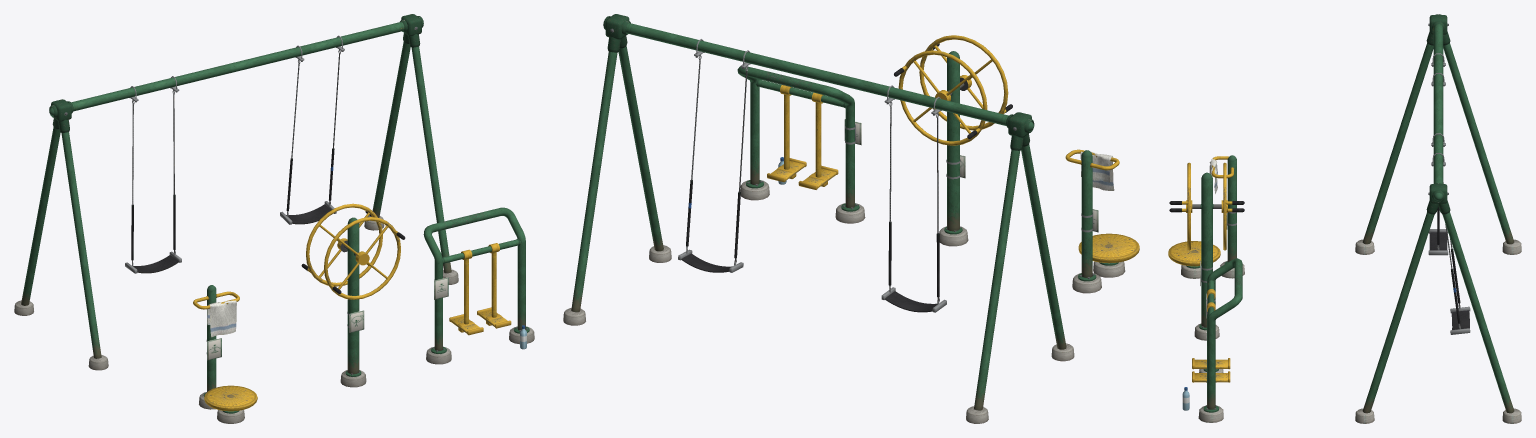
File: park2_props.glb
The picture shows the model from 3 angles, left to right: view 1: azimuth 30°, elevation 25°; view 2: azimuth 150°, elevation 25°; view 3: azimuth 270°, elevation 25°; orthographic projection. The views are drawn at different scales.
Parts seen in each view (by area): view 1: PARK_SWINGS, PARK_FIT_LEG, PARK_FIT_SHOULDER, PARK_FIT_WAIST, PARK_SWING_SEAT_A, PARK_SWING_SEAT_B, PARK_FIT_TOWEL; view 2: PARK_SWINGS, PARK_FIT_LEG, PARK_FIT_SHOULDER, PARK_FIT_WAIST, PARK_SWING_SEAT_A, PARK_SWING_SEAT_B, PARK_FIT_TOWEL; view 3: PARK_SWINGS, PARK_FIT_LEG, PARK_FIT_SHOULDER, PARK_FIT_WAIST, PARK_SWING_SEAT_B, PARK_SWING_SEAT_A.
Boxes of the visible parts, box(x1,y1,x2,y2) form: PARK_SWINGS: box(14, 14, 458, 370); PARK_FIT_LEG: box(423, 207, 534, 364); PARK_FIT_SHOULDER: box(301, 203, 405, 387); PARK_FIT_WAIST: box(193, 285, 257, 423); PARK_SWING_SEAT_A: box(125, 94, 181, 273); PARK_SWING_SEAT_B: box(280, 53, 340, 224); PARK_FIT_TOWEL: box(207, 299, 236, 337); PARK_SWINGS: box(563, 14, 1074, 423); PARK_FIT_LEG: box(737, 66, 865, 223); PARK_FIT_SHOULDER: box(894, 35, 1012, 246); PARK_FIT_WAIST: box(1065, 149, 1139, 293); PARK_SWING_SEAT_A: box(881, 106, 946, 312); PARK_SWING_SEAT_B: box(678, 59, 747, 272); PARK_FIT_TOWEL: box(1080, 151, 1114, 190); PARK_SWINGS: box(1355, 14, 1521, 423); PARK_FIT_LEG: box(1192, 258, 1242, 422); PARK_FIT_SHOULDER: box(1169, 162, 1244, 340); PARK_FIT_WAIST: box(1168, 155, 1244, 278); PARK_SWING_SEAT_B: box(1443, 182, 1470, 334); PARK_SWING_SEAT_A: box(1428, 207, 1448, 255).
Size of the model in its own units: 4.06 by 2.45 by 3.36.
Materials: 1 (1 with a texture image).
